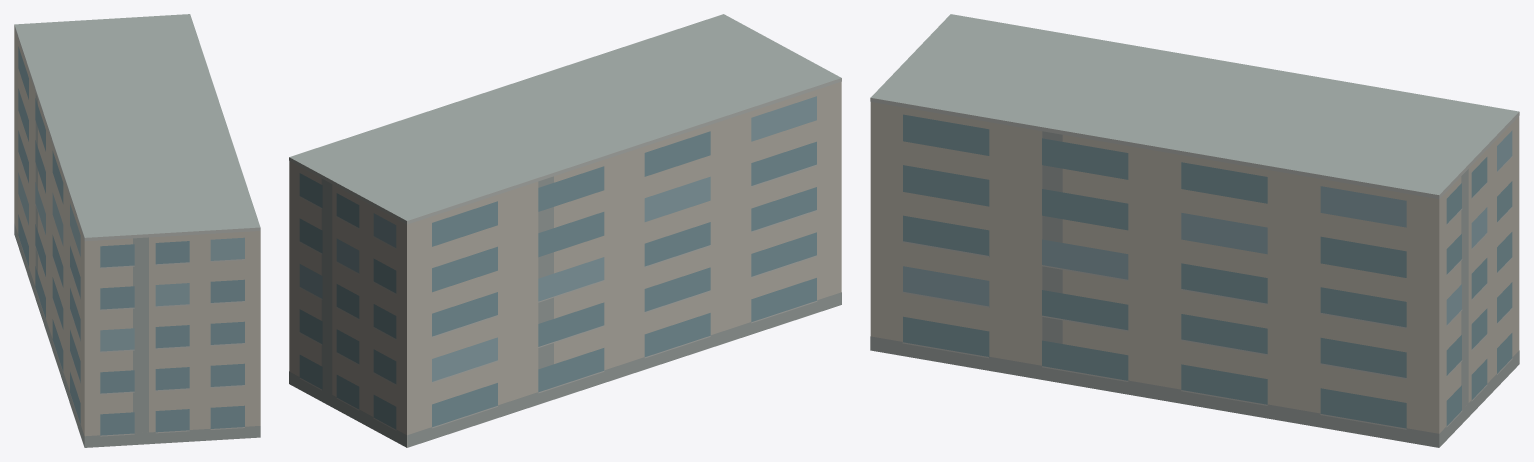
Rendered from residential-e0571750-c30f-437b-a41a-4548b1f0c651.glb.
3 views of the same model, side by side, from view 1: azimuth 30°, elevation 25°; view 2: azimuth 150°, elevation 25°; view 3: azimuth 270°, elevation 25° (orthographic). The views are drawn at different scales.
Parts seen in each view (by area): view 1: residential-e0571750-c30f-437b-a41a-4548b1f0c651.tmp; view 2: residential-e0571750-c30f-437b-a41a-4548b1f0c651.tmp; view 3: residential-e0571750-c30f-437b-a41a-4548b1f0c651.tmp.
Boxes of the visible parts, box(x1,y1,x2,y2) form: residential-e0571750-c30f-437b-a41a-4548b1f0c651.tmp: box(14, 14, 260, 447); residential-e0571750-c30f-437b-a41a-4548b1f0c651.tmp: box(289, 14, 841, 447); residential-e0571750-c30f-437b-a41a-4548b1f0c651.tmp: box(870, 14, 1519, 447).
Bounding box in the file's own units: 23.46 × 15.25 × 35.5.
